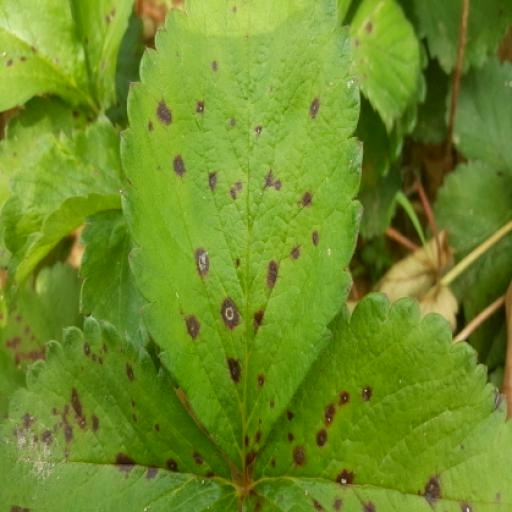Leaf Spot: (147, 0, 395, 475), (0, 292, 270, 511), (270, 315, 511, 511), (384, 0, 511, 117), (413, 96, 511, 209), (429, 261, 511, 395), (91, 0, 163, 137)
